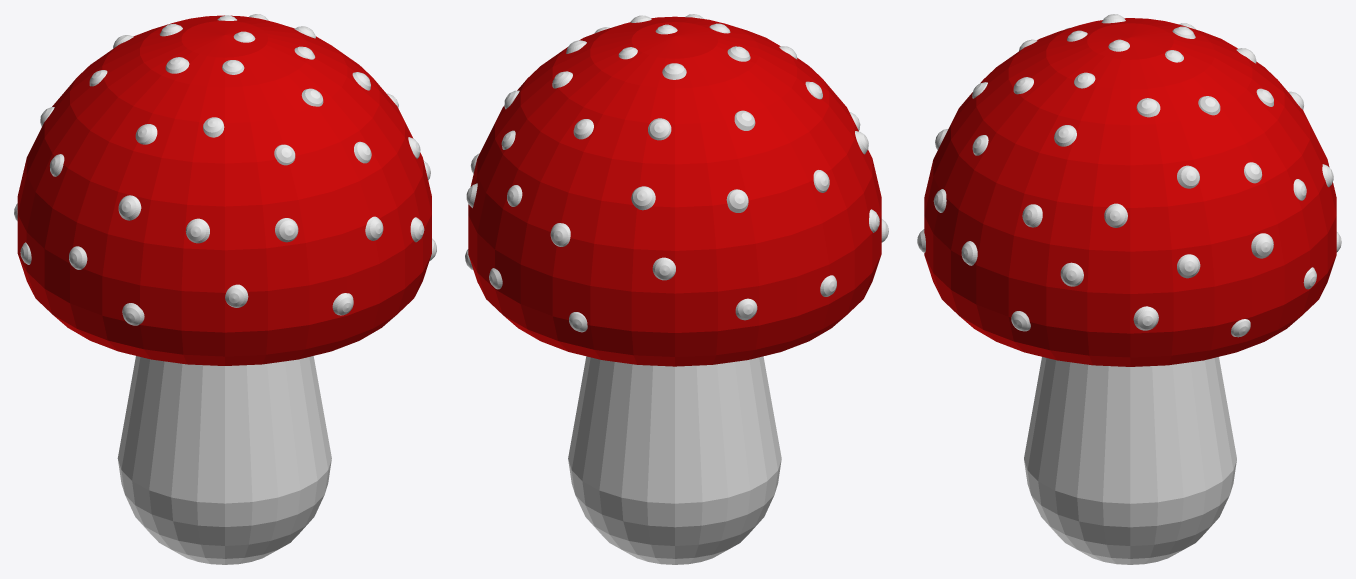
Rendered from Mushroom.gltf.
3 views of the same model, side by side, from view 1: azimuth 30°, elevation 25°; view 2: azimuth 150°, elevation 25°; view 3: azimuth 270°, elevation 25° (orthographic).
Parts seen in each view (by area): view 1: node-0; view 2: node-0; view 3: node-0.
Boxes of the visible parts, <box> form: node-0: <box>14,14,436,564</box>; node-0: <box>465,14,888,564</box>; node-0: <box>917,14,1341,564</box>.
Bounding box in the file's own units: 127 × 173 × 127.
